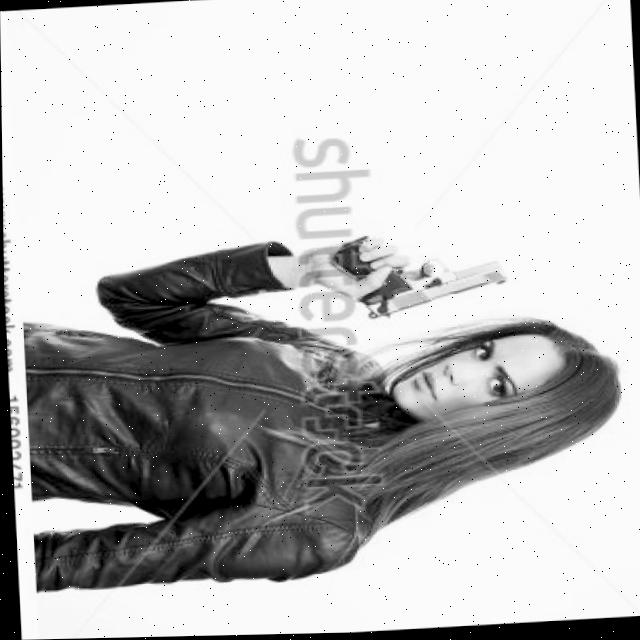pistol: (353, 257, 505, 321)
